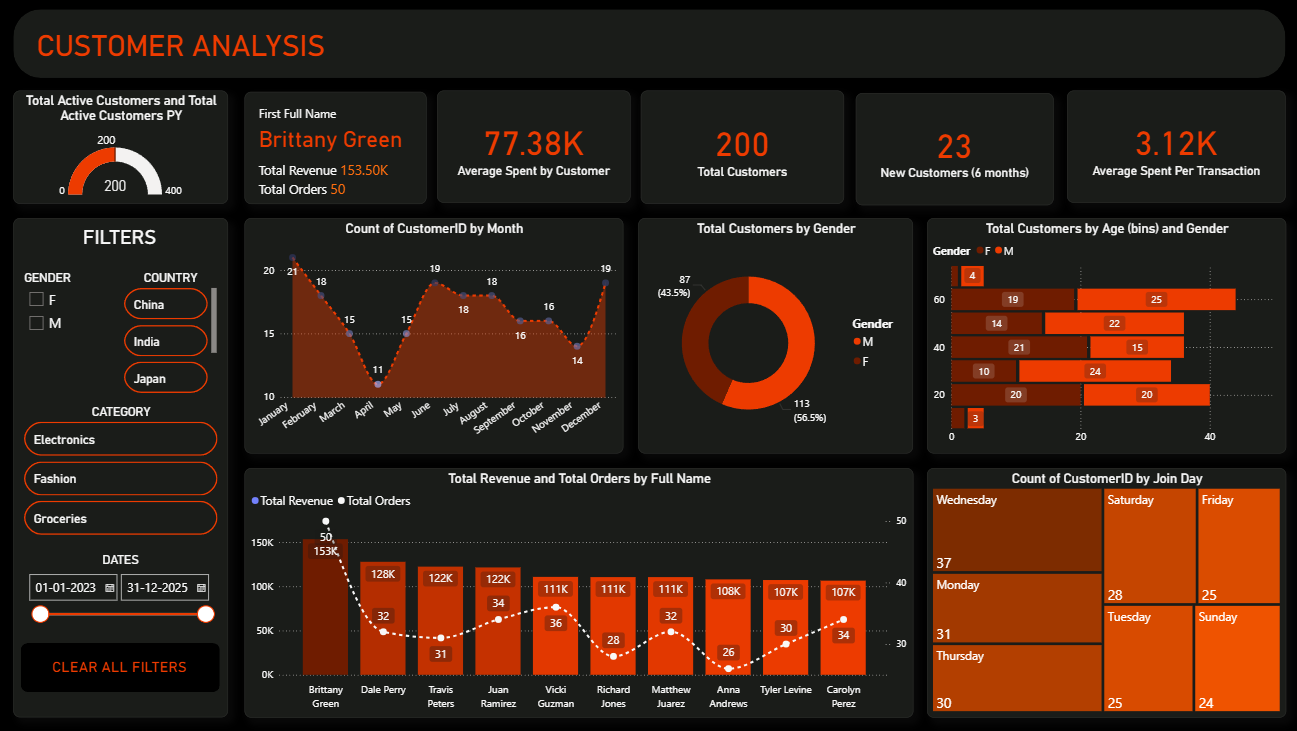

The page's visual inventory and layout, read from the dashboard file:
{"tool":"powerbi","page":{"name":"Customer Analysis","canvas":[1920,1080],"ordinal":3},"visuals":[{"type":"shape","box":[24.7,16.5,1866.9,100.9],"z":0},{"type":"barChart","fields":{"Category":["customers.Age (bins)"],"Y":["Measures Table.Total Customers"],"Series":["customers.Gender"]},"box":[1364.7,323.2,526.9,345.8],"z":1000},{"type":"donutChart","fields":{"Y":["Measures Table.Total Customers"],"Category":["customers.Gender"]},"box":[940.7,323.2,403.4,345.8],"z":2000},{"type":"lineStackedColumnComboChart","fields":{"Y":["Measures Table.Total Revenue"],"Category":["customers.Full Name"],"Y2":["Measures Table.Total Orders"]},"box":[362.3,689.5,981.8,366.4],"z":3000},{"type":"areaChart","fields":{"Y":["CountNonNull(customers.CustomerID)"],"Category":["customers.joindate.Variation.Date Hierarchy.Year","customers.joindate.Variation.Date Hierarchy.Quarter","customers.joindate.Variation.Date Hierarchy.Month","customers.joindate.Variation.Date Hierarchy.Day"]},"box":[362.3,323.2,555.7,345.8],"z":4000},{"type":"treemap","fields":{"Group":["customers.Join Day"],"Values":["CountNonNull(customers.CustomerID)"]},"box":[1364.7,689.5,526.9,366.4],"z":5000},{"type":"group","id":"g1","title":"Group 1","box":[24.7,323.2,314.9,732.8],"z":6000},{"type":"textbox","box":[53.5,41.2,504.3,76.2],"z":7000},{"type":"cardVisual","fields":{"Data":["Min(customers.Full Name)"]},"box":[362.3,137.9,267.6,164.7],"z":8000},{"type":"card","fields":{"Values":["Measures Table.Average Spent by Customer"]},"box":[646.3,135.8,284,164.7],"z":9000},{"type":"card","fields":{"Values":["Measures Table.Total Customers"]},"box":[944.8,135.8,298.5,166.7],"z":10000},{"type":"shape","box":[24.7,323.2,314.9,732.8],"z":10000,"group":"g1"},{"type":"card","fields":{"Values":["Measures Table.New Customers (6 months)"]},"box":[1259.7,140,290.2,164.7],"z":11000},{"type":"card","fields":{"Values":["Measures Table.Average Spent Per Transaction"]},"box":[1570.5,135.8,321.1,164.7],"z":12000},{"type":"advancedSlicerVisual","title":"COUNTRY","fields":{"Values":["stores.Country"]},"box":[183.2,399.4,146.1,187.3],"z":12000,"group":"g1"},{"type":"gauge","fields":{"TargetValue":["Measures Table.Total Active Customers PY"],"Y":["Measures Table.Total Active Customers"]},"box":[24.7,135.8,314.9,166.7],"z":13000},{"type":"advancedSlicerVisual","title":"CATEGORY","fields":{"Values":["products.Category"]},"box":[35,597,294.3,199.7],"z":13000,"group":"g1"},{"type":"slicer","title":"GENDER","fields":{"Values":["customers.Gender"]},"box":[35,399.4,148.2,160.5],"z":14000,"group":"g1"},{"type":"slicer","title":"DATES","fields":{"Values":["Dates.Date"]},"box":[35,815.1,292.3,117.3],"z":15000,"group":"g1"},{"type":"shape","title":"CLEAR ALL FILTER","box":[35,946.9,292.3,72],"z":16000,"group":"g1"},{"type":"textbox","box":[53.5,965.4,253.2,35],"z":17000,"group":"g1"},{"type":"textbox","box":[39.1,328,282,43.2],"z":18000,"group":"g1"}]}

Visuals, with their boxes in screenshot pixels (x1, y1, x2, y2), scaled from the page's 1920x1080 canvas onto the 1297x731 screenshot:
shape: 17,11,1278,79
barChart - customers.Age (bins) x Measures Table.Total Customers: 922,219,1278,453
donutChart - Measures Table.Total Customers x customers.Gender: 635,219,908,453
lineStackedColumnComboChart - Measures Table.Total Revenue x customers.Full Name: 245,467,908,715
areaChart - CountNonNull(customers.CustomerID) x customers.joindate.Variation.Date Hierarchy.Year: 245,219,620,453
treemap - customers.Join Day x CountNonNull(customers.CustomerID): 922,467,1278,715
"Group 1" group: 17,219,229,715
textbox: 36,28,377,79
cardVisual - Min(customers.Full Name): 245,93,426,205
card - Measures Table.Average Spent by Customer: 437,92,628,203
card - Measures Table.Total Customers: 638,92,840,205
shape: 17,219,229,715
card - Measures Table.New Customers (6 months): 851,95,1047,206
card - Measures Table.Average Spent Per Transaction: 1061,92,1278,203
"COUNTRY" advancedSlicerVisual: 124,270,222,397
gauge - Measures Table.Total Active Customers PY x Measures Table.Total Active Customers: 17,92,229,205
"CATEGORY" advancedSlicerVisual: 24,404,222,539
"GENDER" slicer: 24,270,124,379
"DATES" slicer: 24,552,221,631
"CLEAR ALL FILTER" shape: 24,641,221,690
textbox: 36,653,207,677
textbox: 26,222,217,251
